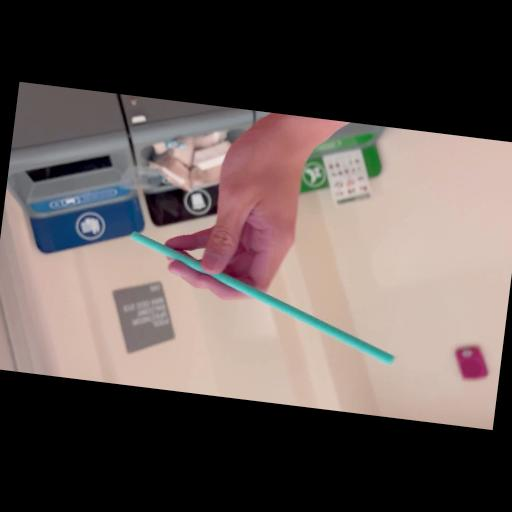straw: (128, 236, 406, 366)
